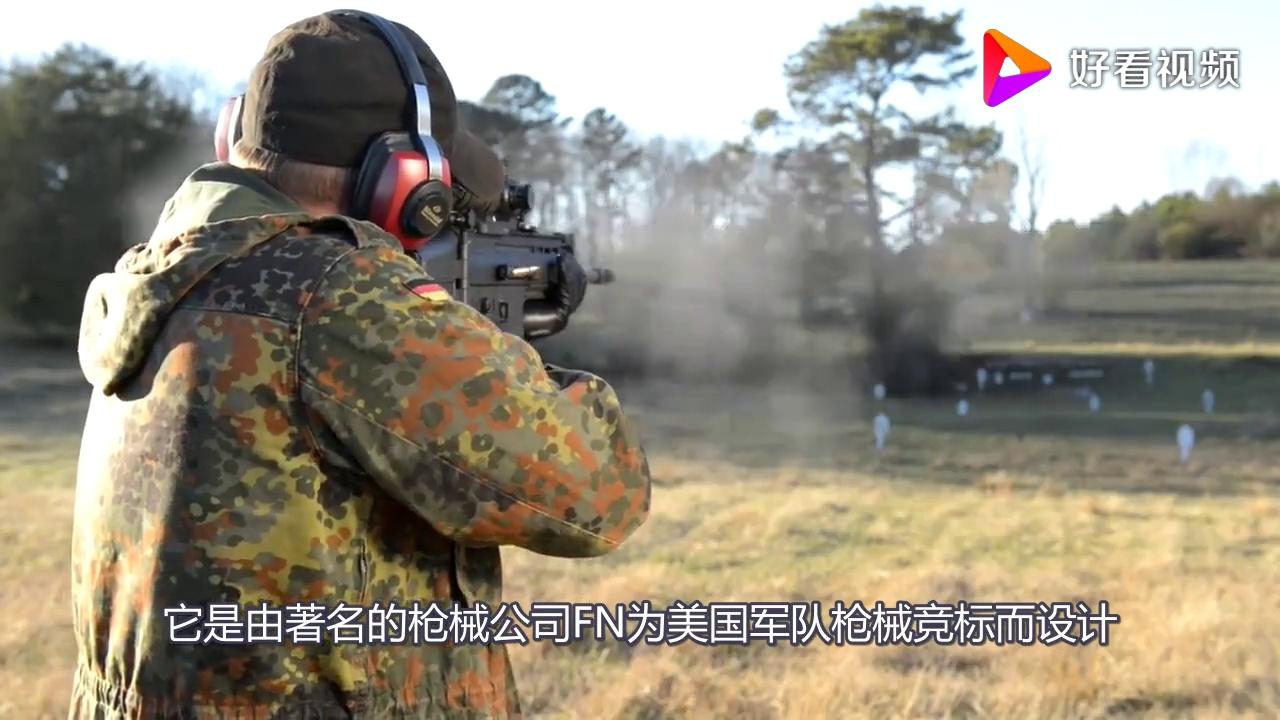gun: (390, 169, 616, 369)
